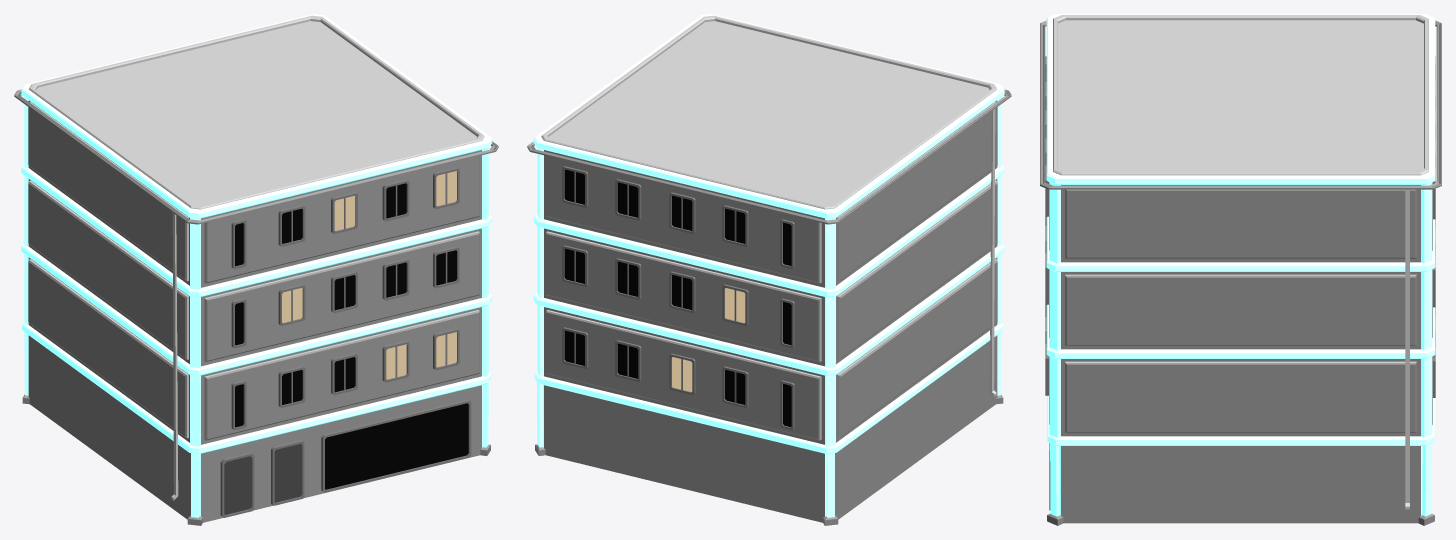
The model's file is Building_Medium_0_Size_2.fbx.
The picture shows the model from 3 angles, left to right: view 1: azimuth 30°, elevation 25°; view 2: azimuth 150°, elevation 25°; view 3: azimuth 270°, elevation 25°; orthographic projection. The views are drawn at different scales.
Parts seen in each view (by area): view 1: Building_Medium_0_Size_2; view 2: Building_Medium_0_Size_2; view 3: Building_Medium_0_Size_2.
Boxes of the visible parts, box(x1,y1,x2,y2) form: Building_Medium_0_Size_2: box(14, 14, 498, 525); Building_Medium_0_Size_2: box(527, 14, 1011, 525); Building_Medium_0_Size_2: box(1040, 14, 1441, 525).
Size of the model in its own units: 1590 by 1540 by 1602.
